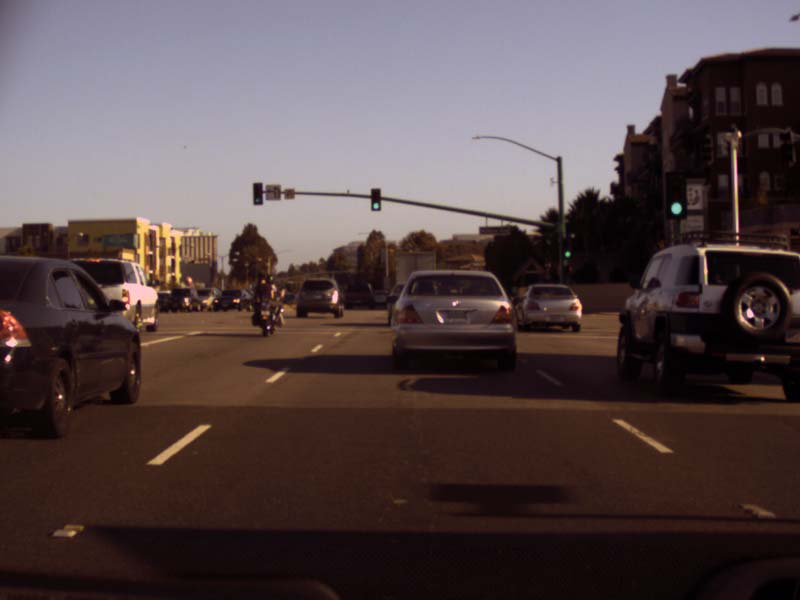Green: (666, 174, 684, 217), (252, 183, 262, 204), (562, 239, 571, 258), (372, 189, 380, 210)
